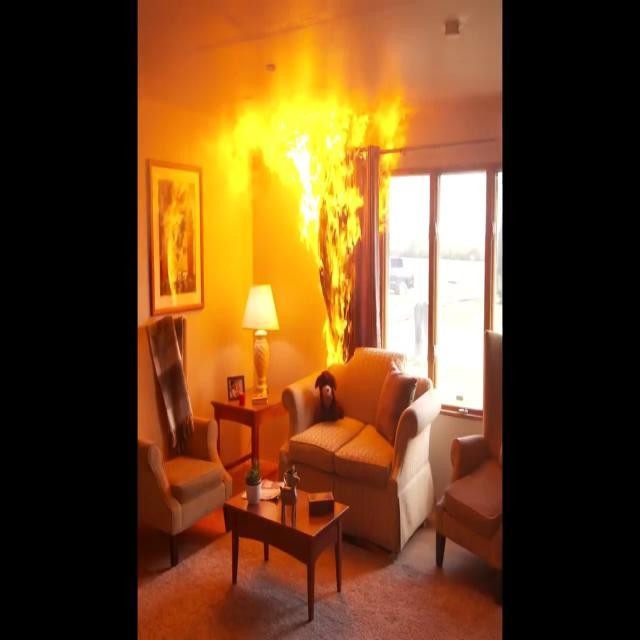Fire: (284, 51, 402, 373)
